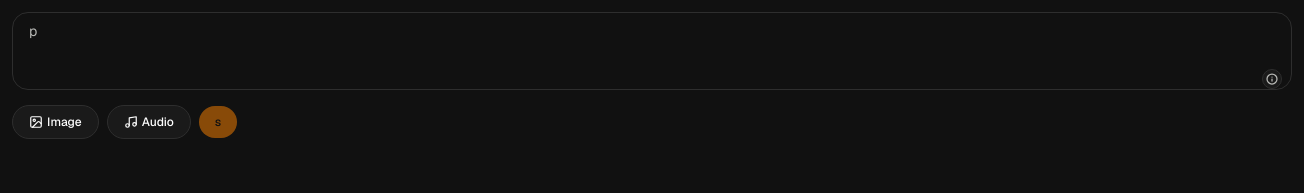
Scenario: CommentInput (issue mention picker) › replaces a partially typed mention (e.g. @issue:1 → @issue:5) when picking from filtered list
Type "Refer to @issue:5" into the text box with placeholder "p". click: (652, 51)
box: [12,12,1292,90]
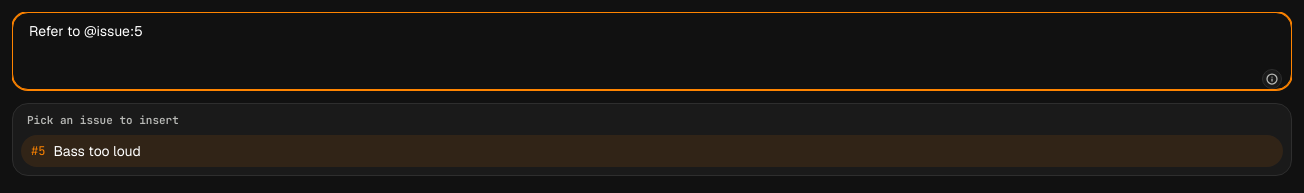
Now the number of options is 1, box [21,134,1283,166]
Now the option "#5 Bass too loud" is shown, box [21,134,1283,166]
